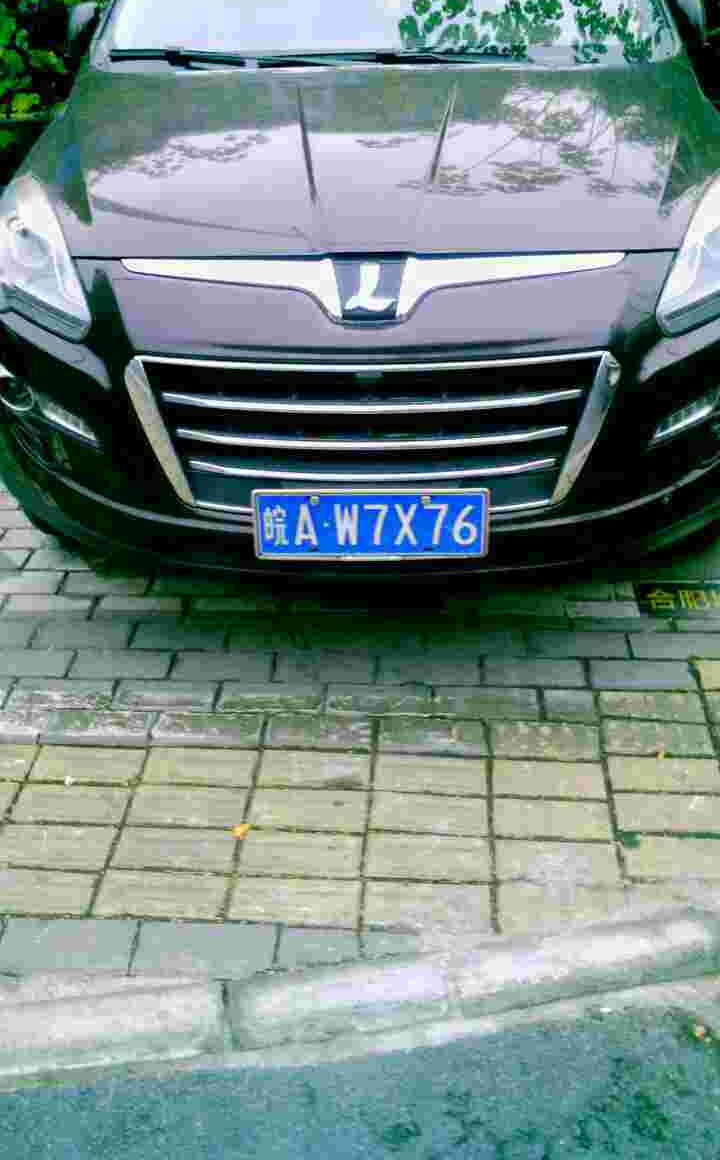license_plate: (255, 499, 494, 561)
